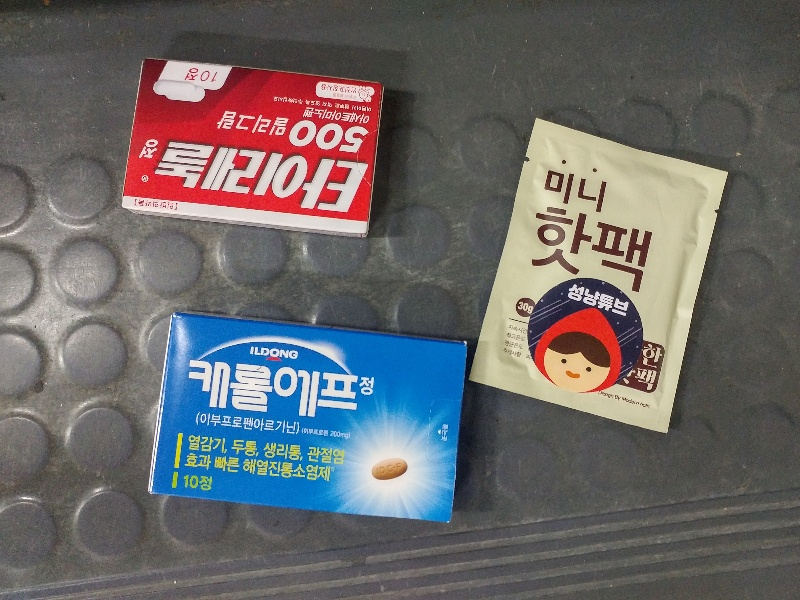carolF: (145, 310, 468, 527)
tylenol: (122, 59, 371, 239)
